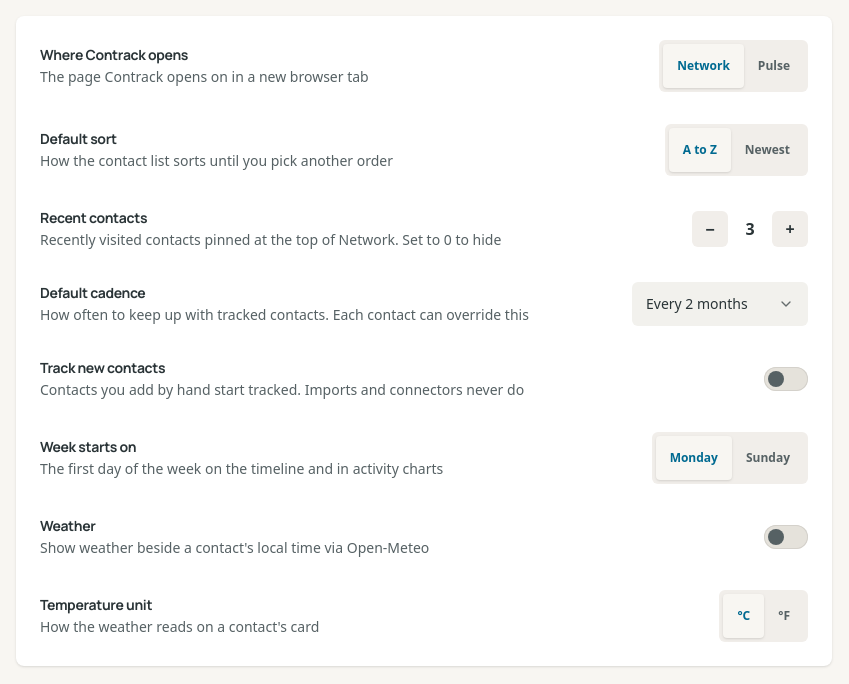
it: the Default cadence select › shows a default saved before 2.0 as a fifth option, in its place
Click the dropdown named "Default cadence": (720, 304) [632,282,808,326]
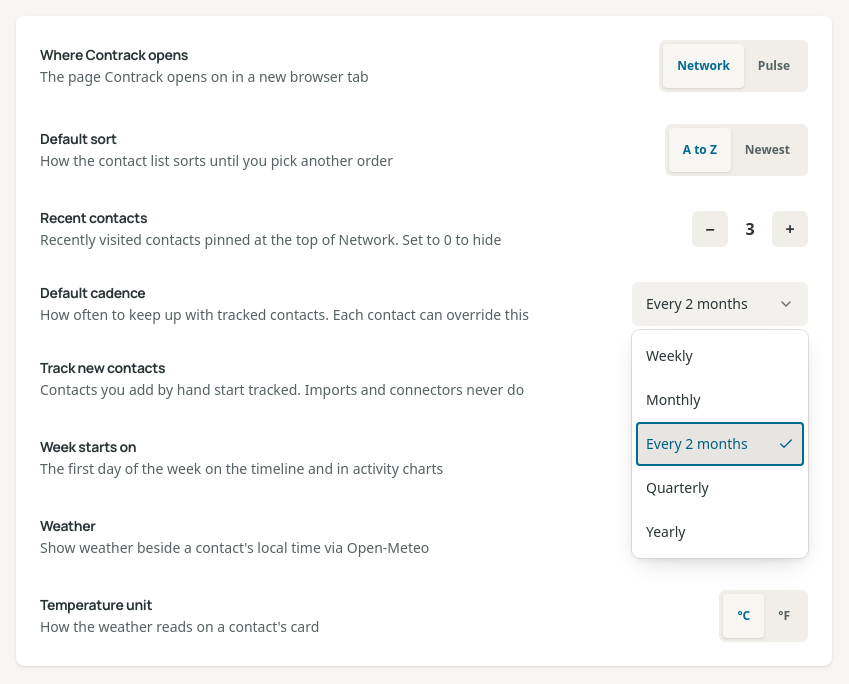
Expected: the options read "Weekly", "Monthly", "Every 2 months", "Quarterly", "Yearly", in this order, [636,334,804,378]; [636,378,804,422]; [636,422,804,466]; [636,466,804,510]; [636,510,804,554]
